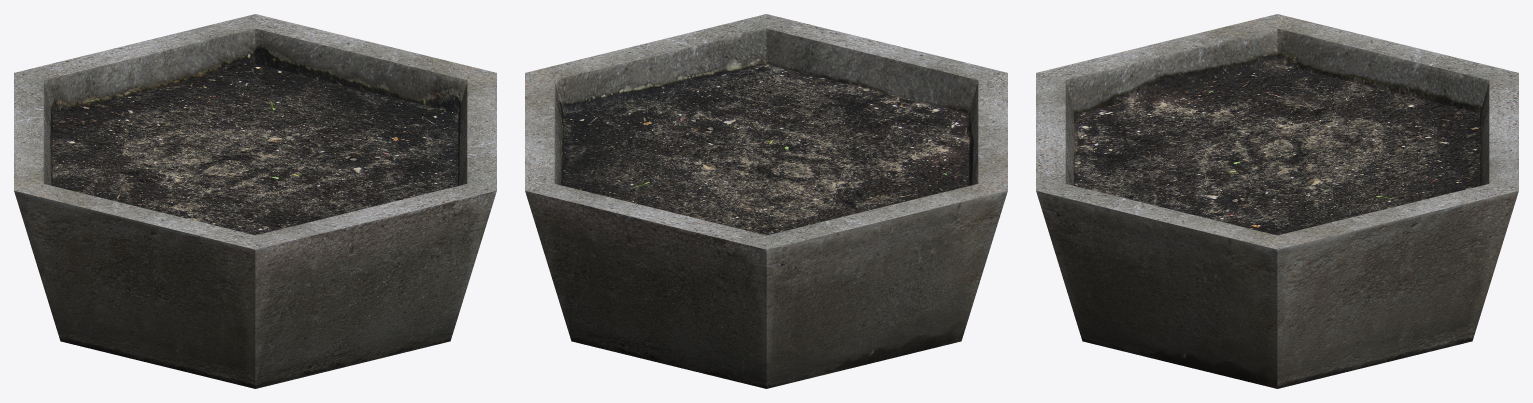
File: flowerpot1.fbx
3 views of the same model, side by side, from view 1: azimuth 30°, elevation 25°; view 2: azimuth 150°, elevation 25°; view 3: azimuth 270°, elevation 25° (orthographic).
Visible parts, largest first — view 1: flowerpot1; view 2: flowerpot1; view 3: flowerpot1.
Part boxes in pixels (box(x1,y1,x2,y2)): flowerpot1: box(14, 14, 496, 388); flowerpot1: box(525, 14, 1007, 388); flowerpot1: box(1036, 14, 1518, 388).
Bounding box in the file's own units: 128 × 111 × 40.91.
